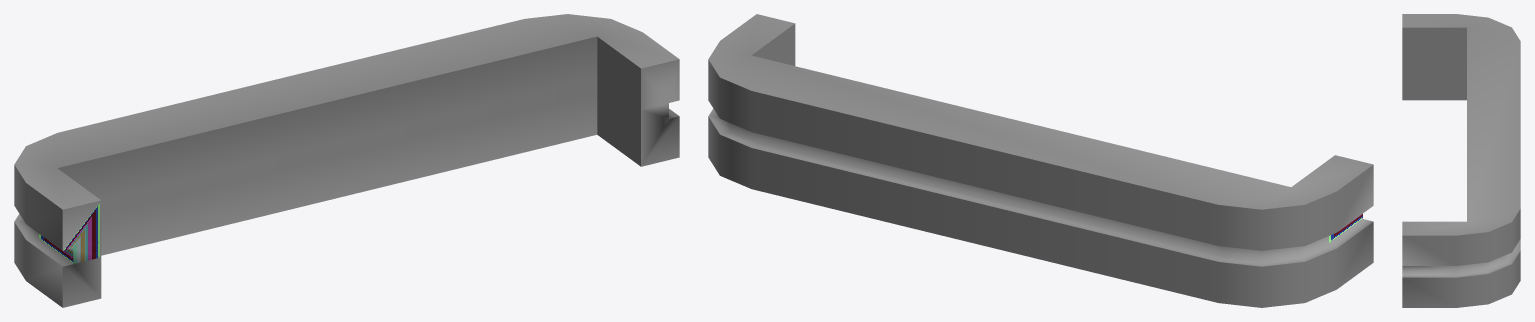
Rendered from BackBump1.fbx.
The picture shows the model from 3 angles, left to right: view 1: azimuth 30°, elevation 25°; view 2: azimuth 150°, elevation 25°; view 3: azimuth 270°, elevation 25°; orthographic projection. The views are drawn at different scales.
Parts seen in each view (by area): view 1: BackBump1; view 2: BackBump1; view 3: BackBump1.
Part boxes in pixels (box(x1,y1,x2,y2)): BackBump1: box(14, 14, 679, 307); BackBump1: box(708, 14, 1373, 307); BackBump1: box(1402, 14, 1520, 307).
Size of the model in its own units: 2.29 by 0.3486 by 0.5153.
